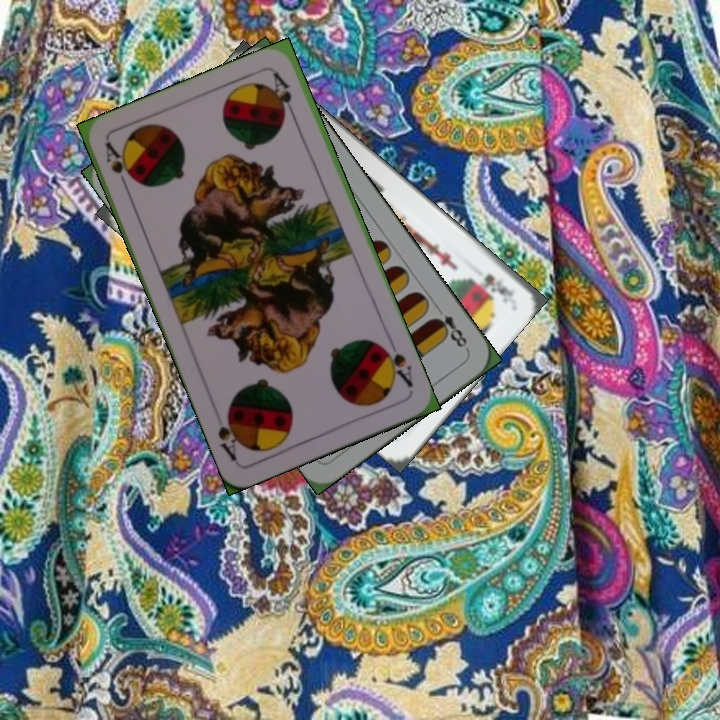E8: (428, 301, 471, 353)
SA: (376, 336, 416, 390), (100, 138, 137, 195)
SK: (479, 269, 517, 306)
